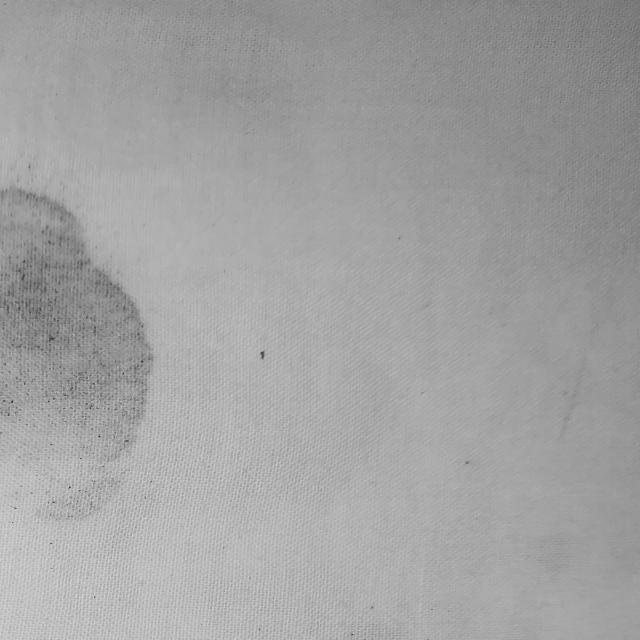Stain: (0, 181, 154, 523)
